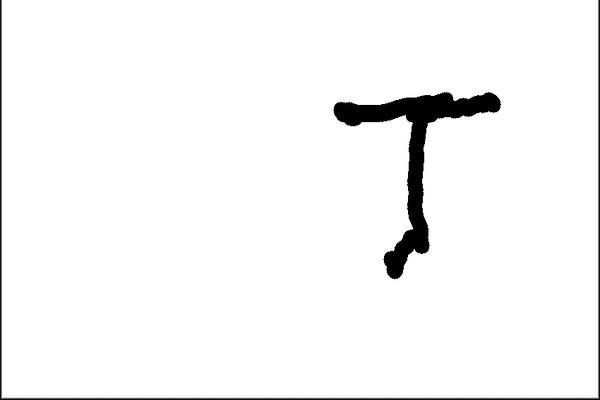T: (321, 82, 511, 280)
